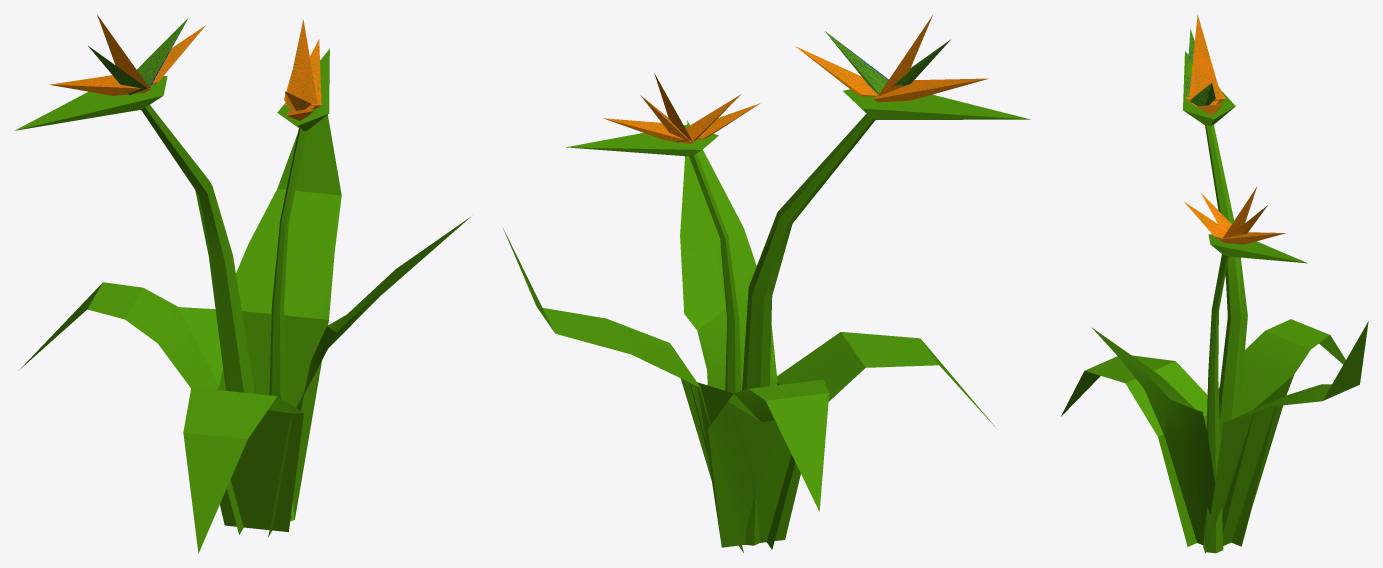
The model's file is Plant_Bird_of_Paradise_01.fbx.
3 views of the same model, side by side, from view 1: azimuth 30°, elevation 25°; view 2: azimuth 150°, elevation 25°; view 3: azimuth 270°, elevation 25° (orthographic). The views are drawn at different scales.
Parts seen in each view (by area): view 1: Model; view 2: Model; view 3: Model.
Part boxes in pixels (<box>): Model: <box>15,14,470,553</box>; Model: <box>503,15,1030,552</box>; Model: <box>1061,15,1368,553</box>.
Size of the model in its own units: 340 by 435 by 265.
